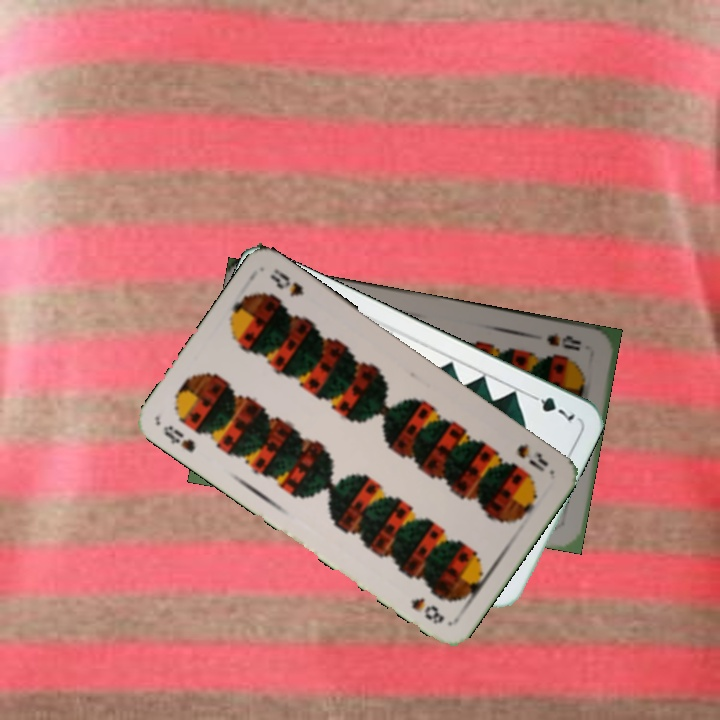G7: (524, 389, 578, 427)
S8: (159, 420, 198, 455), (513, 440, 551, 475), (543, 329, 584, 353)
